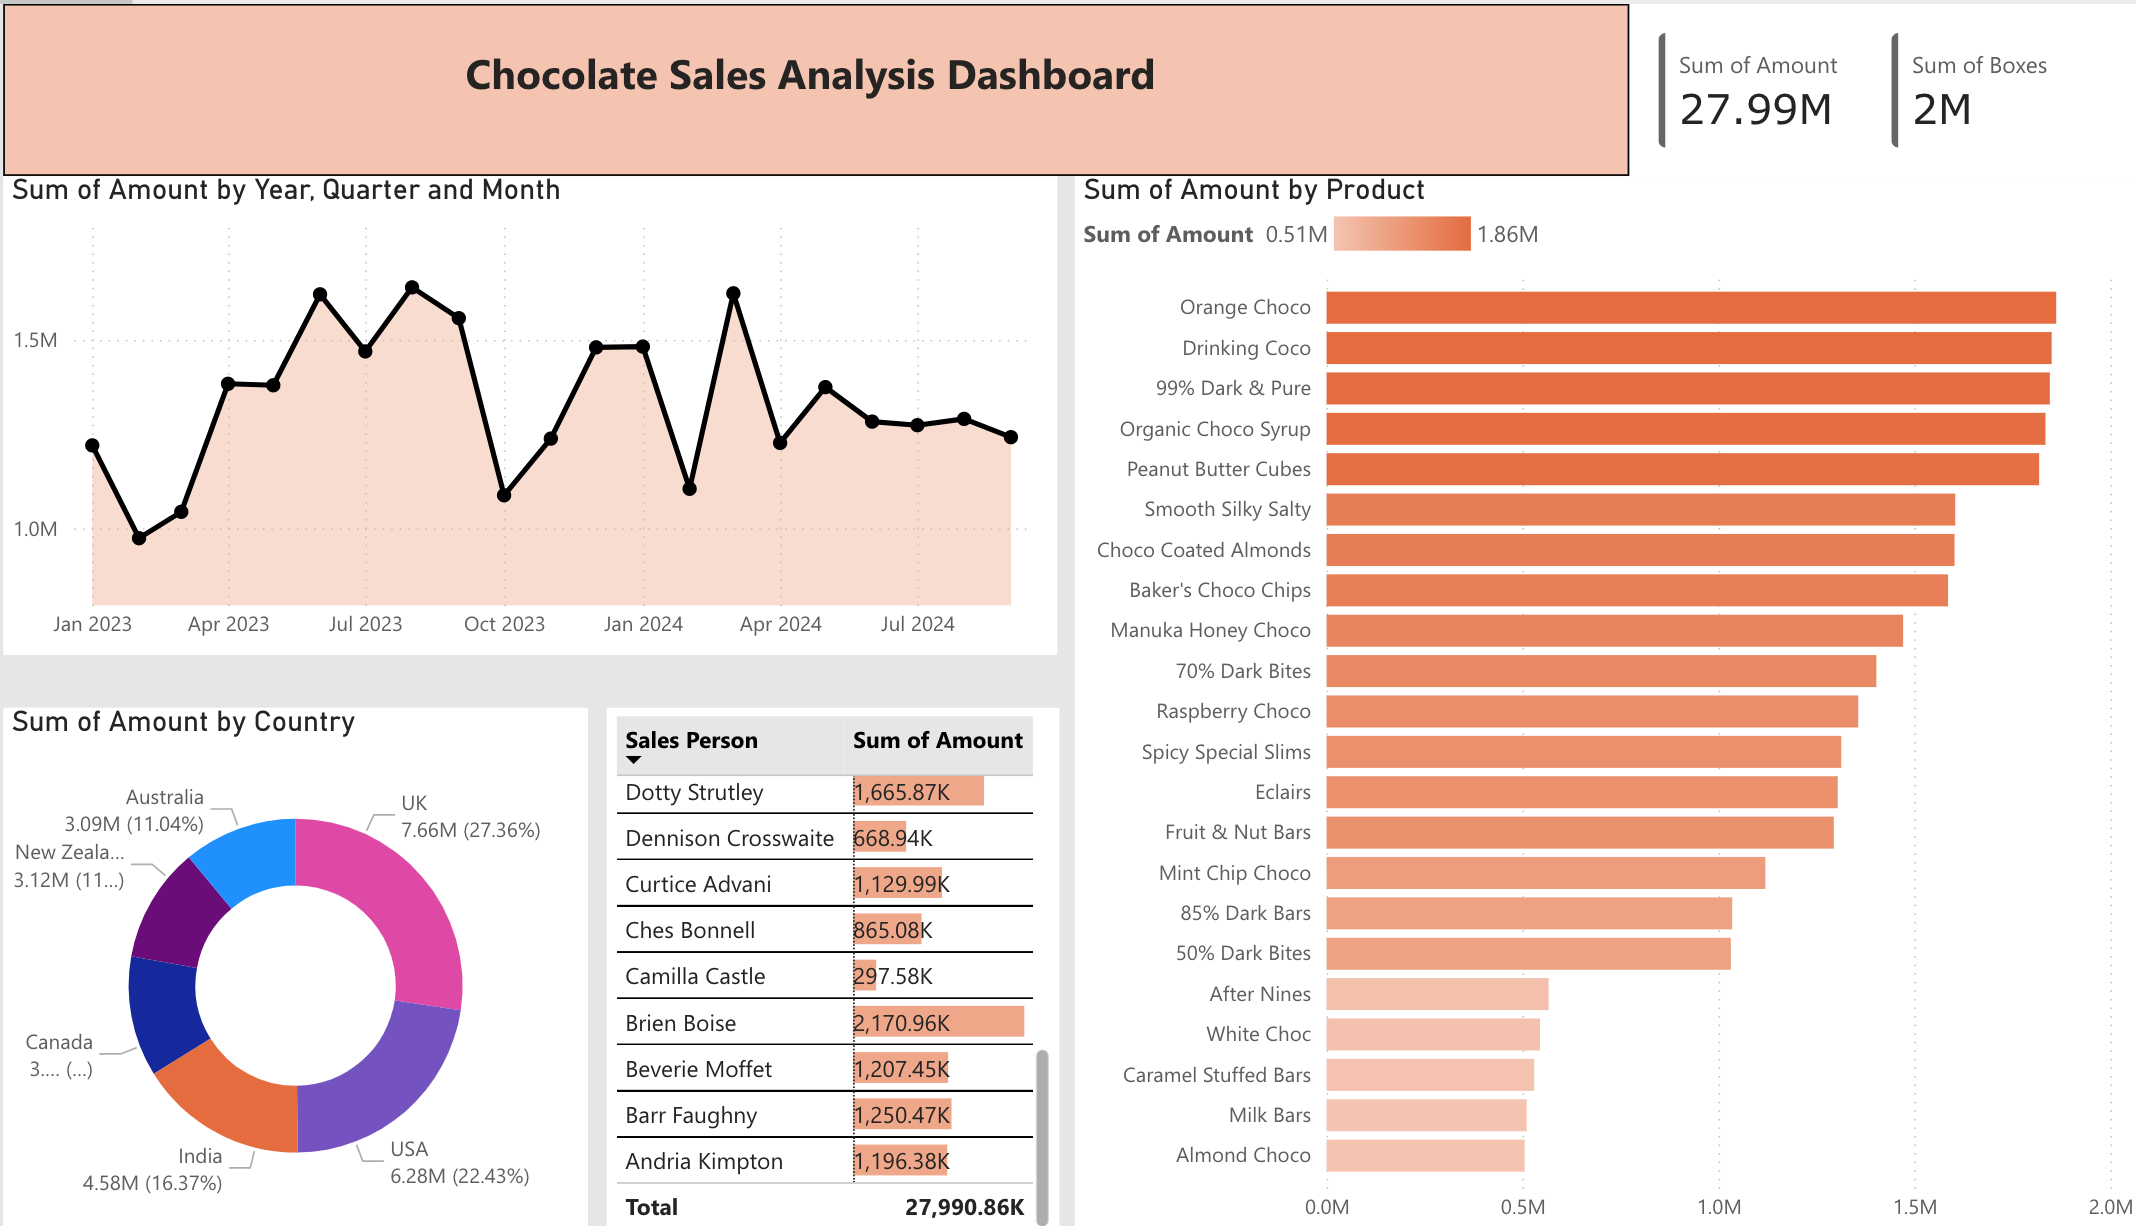

What the dashboard file says about the page in this screenshot:
{"tool":"powerbi","page":{"name":"Page 1","canvas":[1280,720],"ordinal":0},"visuals":[{"type":"lineChart","fields":{"Category":["data.Date.Variation.Date Hierarchy.Year","data.Date.Variation.Date Hierarchy.Quarter","data.Date.Variation.Date Hierarchy.Month","data.Date.Variation.Date Hierarchy.Day"],"Y":["data.Amount"]},"box":[15.9,100.5,605.6,280.3],"z":0},{"type":"donutChart","fields":{"Category":["data.Country"],"Y":["data.Amount"]},"box":[15.9,409.9,341.2,309.4],"z":1000},{"type":"tableEx","fields":{"Values":["data.Sales Person","data.Amount"]},"box":[378.2,409.9,243.3,309.4],"z":2000},{"type":"barChart","fields":{"Category":["data.Product"],"Y":["data.Amount"]},"box":[640.7,100.9,623.6,619.7],"z":3000},{"type":"cardVisual","fields":{"Data":["data.Amount","data.Boxes"]},"box":[965.6,0,298.7,100.9],"z":4000}]}

Visuals, with their boxes in screenshot pixels (x1, y1, x2, y2), scaled from the page's 1280x720 canvas onto the 2136x1226 screenshot:
lineChart - data.Date.Variation.Date Hierarchy.Year x data.Date.Variation.Date Hierarchy.Quarter: x1=27, y1=171, x2=1037, y2=648
donutChart - data.Country x data.Amount: x1=27, y1=698, x2=596, y2=1225
tableEx - data.Sales Person x data.Amount: x1=631, y1=698, x2=1037, y2=1225
barChart - data.Product x data.Amount: x1=1069, y1=172, x2=2110, y2=1225
cardVisual - data.Amount x data.Boxes: x1=1611, y1=0, x2=2110, y2=172
